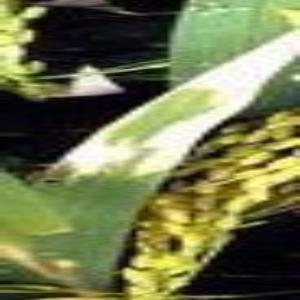Bacterial_Blight: (53, 61, 213, 280)
